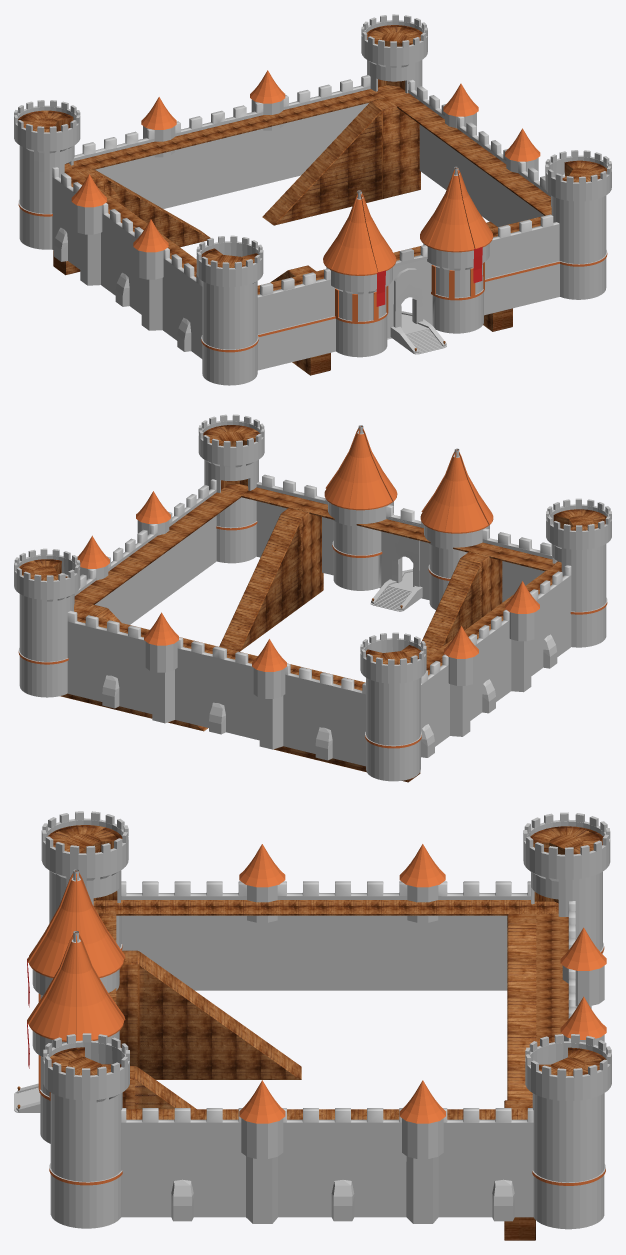
File: castel5.fbx
3 views of the same model, one above another, from view 1: azimuth 30°, elevation 25°; view 2: azimuth 150°, elevation 25°; view 3: azimuth 270°, elevation 25° (orthographic). The views are drawn at different scales.
Parts seen in each view (by area): view 1: Castle_Catle.006, Cube_Cube.002, Castle.003_Catle.009, Cylinder.004, Cylinder.003, Cylinder.001, Cylinder.002; view 2: Castle_Catle.006, Cube_Cube.002, Castle.003_Catle.009, Cylinder.001, Cylinder.002, Cylinder.004, Cylinder.003; view 3: Castle_Catle.006, Cube_Cube.002, Cylinder.002, Cylinder.003, Cylinder.004, Cylinder.001, Castle.003_Catle.009.
Boxes of the visible parts, x1,y1,x2,y2 form: Castle_Catle.006: [14, 14, 611, 385]; Cube_Cube.002: [53, 85, 551, 375]; Castle.003_Catle.009: [390, 268, 446, 354]; Cylinder.004: [366, 25, 422, 92]; Cylinder.003: [18, 110, 73, 164]; Cylinder.001: [562, 160, 606, 182]; Cylinder.002: [201, 248, 258, 267]; Castle_Catle.006: [14, 414, 611, 781]; Cube_Cube.002: [60, 484, 561, 782]; Castle.003_Catle.009: [370, 534, 422, 611]; Cylinder.001: [203, 425, 259, 489]; Cylinder.002: [553, 509, 606, 530]; Cylinder.004: [19, 559, 67, 580]; Cylinder.003: [366, 645, 420, 664]; Castle_Catle.006: [27, 811, 611, 1229]; Cube_Cube.002: [93, 900, 568, 1240]; Cylinder.002: [47, 825, 122, 900]; Cylinder.003: [530, 826, 603, 903]; Cylinder.004: [539, 1047, 606, 1075]; Cylinder.001: [50, 1047, 121, 1075]; Castle.003_Catle.009: [14, 1083, 40, 1112].
Size of the model in its own units: 23090 by 9417 by 22496.
